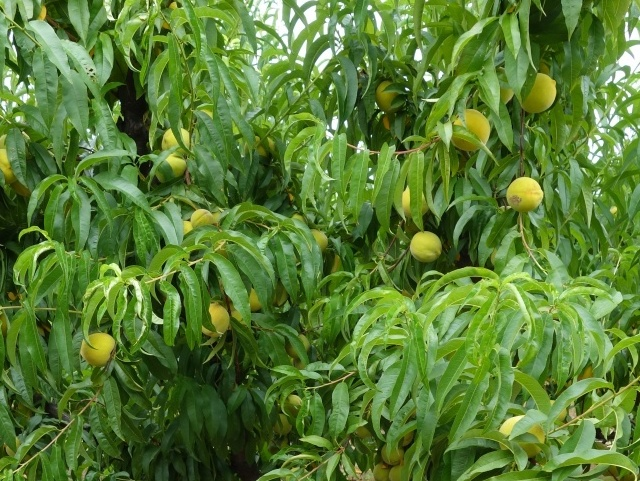peach: (446, 107, 494, 155), (497, 410, 545, 458), (501, 172, 548, 218), (75, 329, 120, 370), (519, 70, 562, 112), (405, 228, 446, 266), (393, 183, 430, 221), (201, 299, 234, 339), (370, 78, 407, 113), (156, 147, 191, 183), (159, 127, 196, 161), (283, 328, 313, 363), (186, 206, 216, 234), (308, 225, 332, 256), (377, 441, 406, 466), (273, 410, 294, 441), (369, 460, 393, 481), (387, 461, 411, 481)
